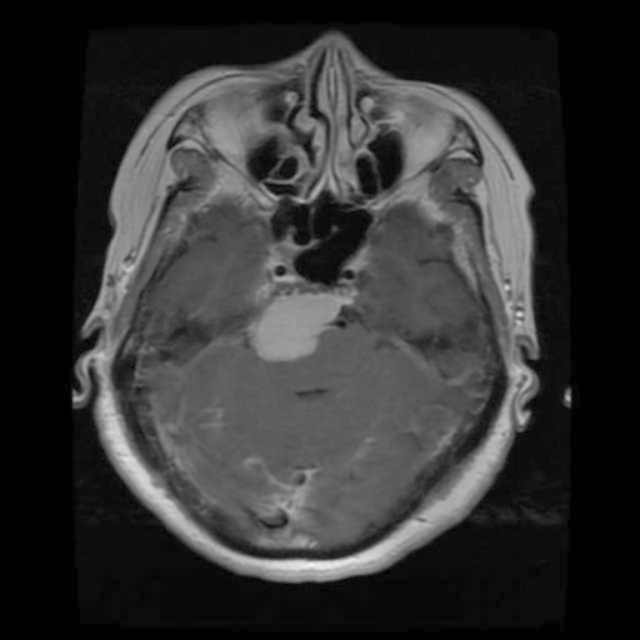meningioma tumor: (245, 258, 374, 380)
